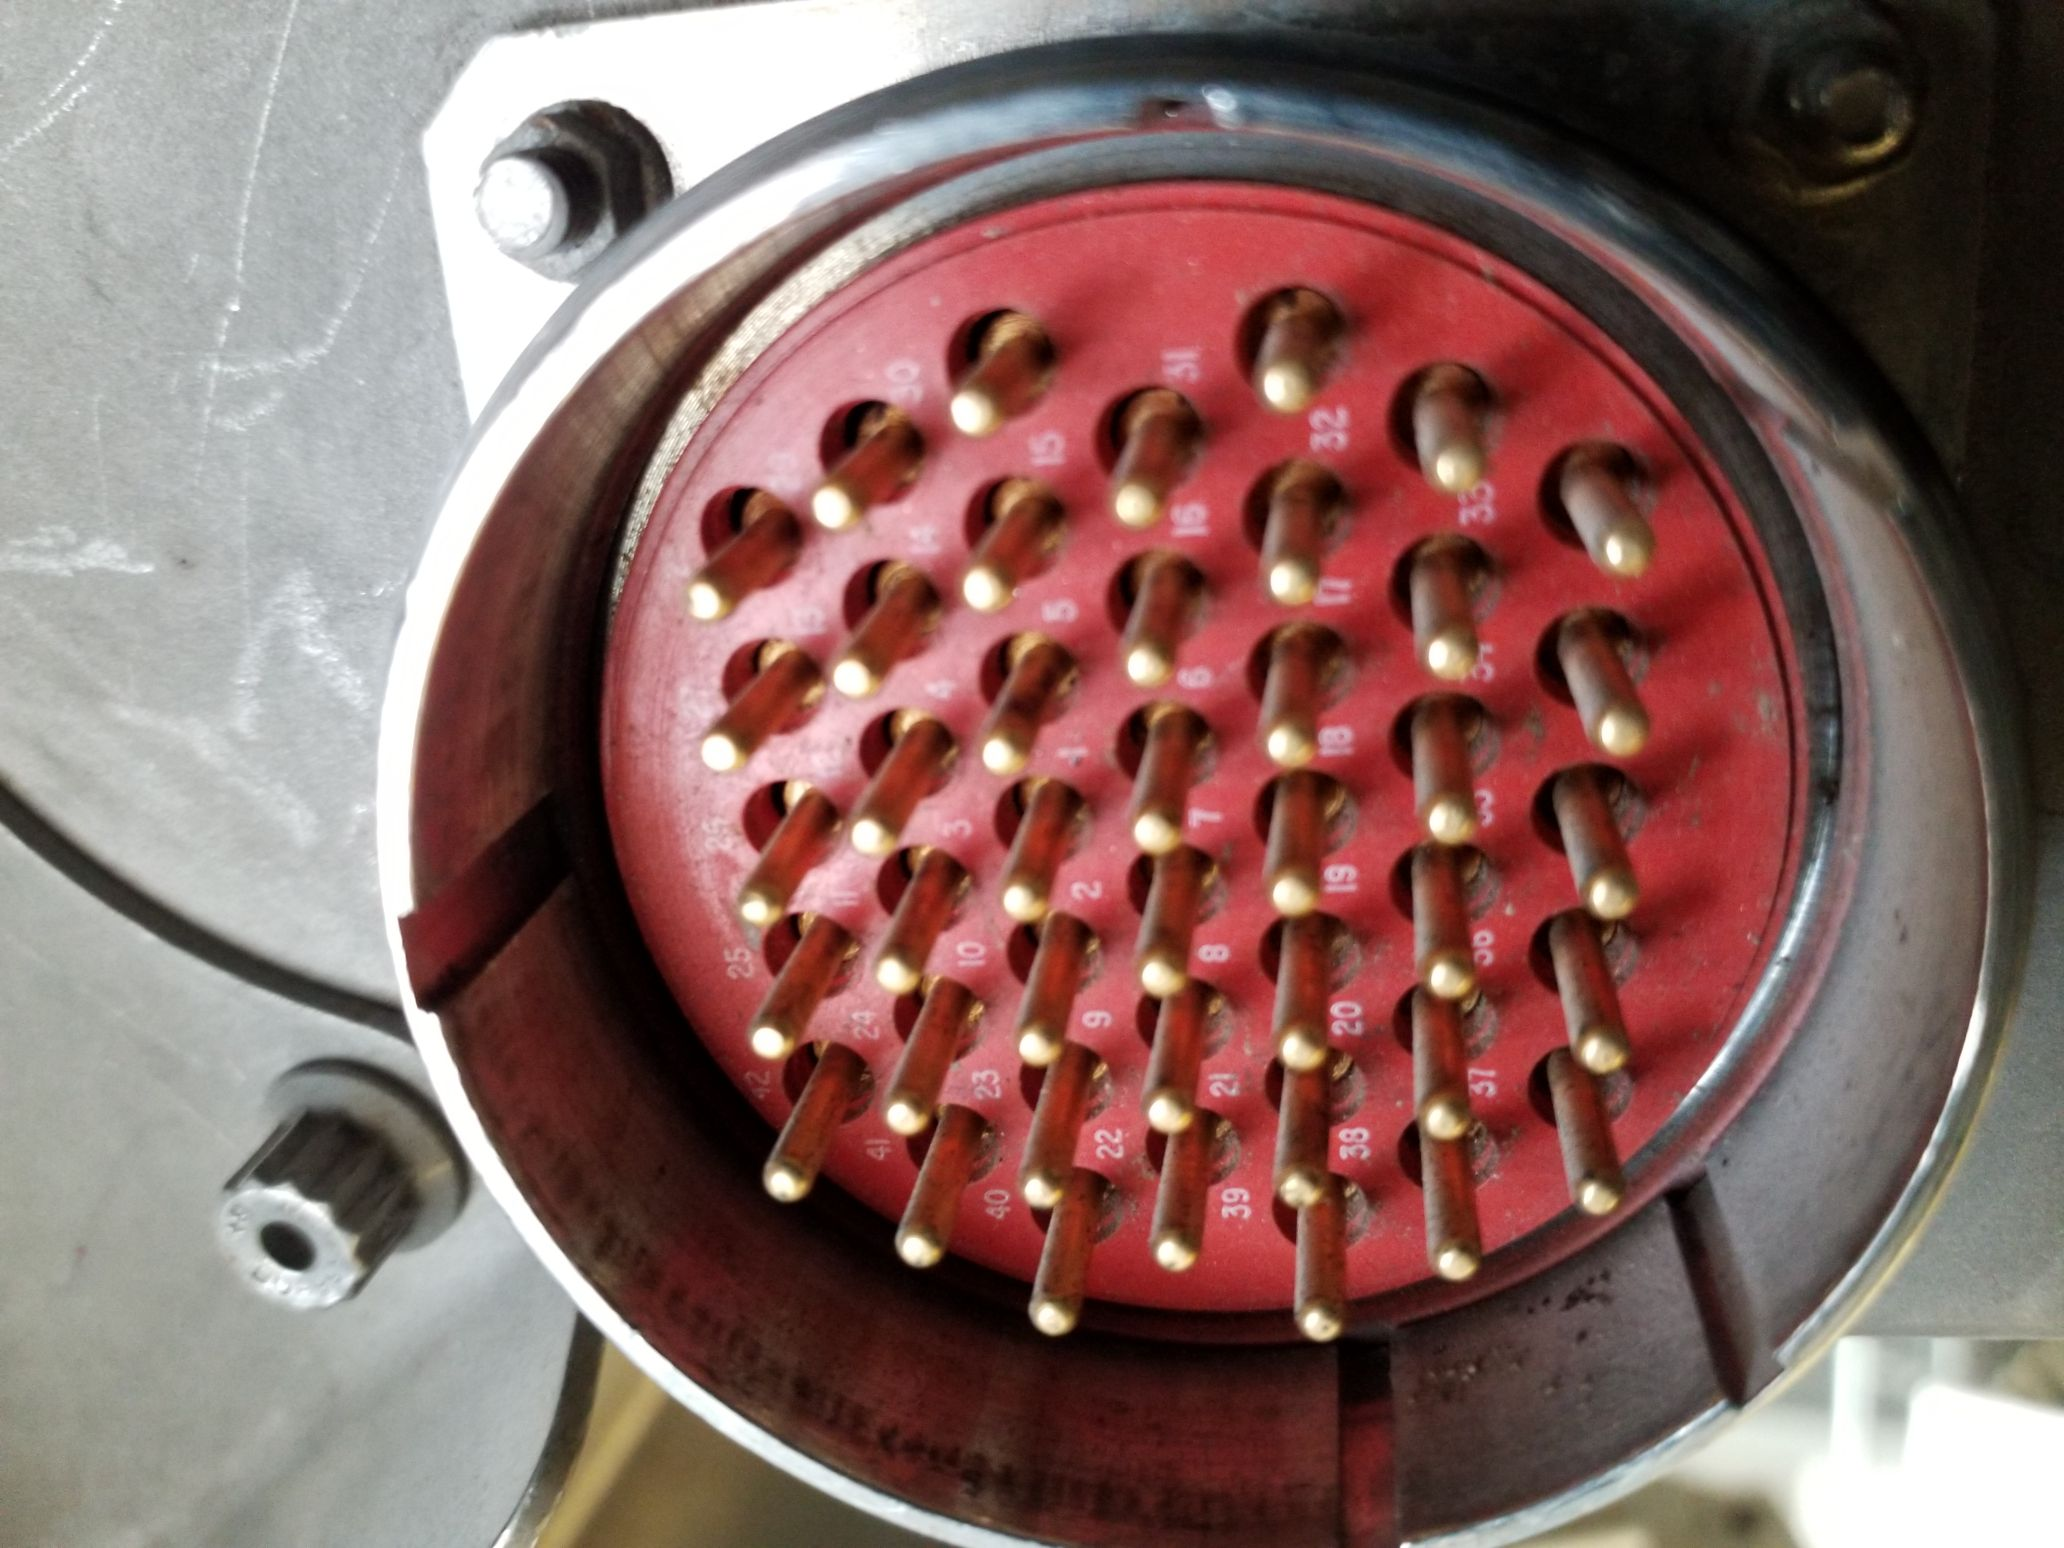outlet: (372, 36, 2048, 1535)
